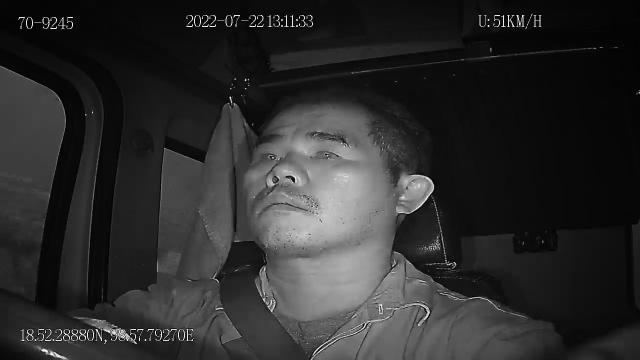SafeDriving: (304, 138, 346, 166), (250, 139, 286, 170)
Seatbelt: (216, 268, 312, 360)
